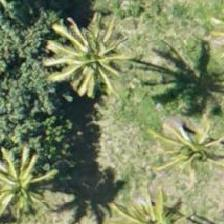coconut_tree: (56, 25, 146, 115), (150, 106, 223, 196), (0, 142, 60, 223)
